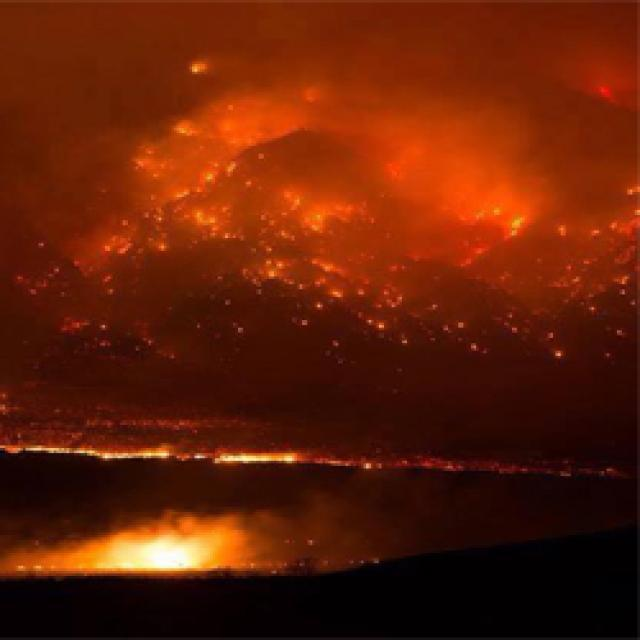Fire: (0, 494, 353, 604), (0, 410, 323, 480), (323, 435, 640, 495), (136, 88, 252, 196), (502, 200, 626, 286), (232, 253, 397, 313), (265, 182, 363, 266), (106, 308, 202, 388), (447, 178, 540, 244), (286, 268, 368, 342), (430, 308, 546, 357), (568, 205, 640, 275), (137, 200, 225, 256), (88, 215, 162, 270), (40, 280, 101, 346), (152, 46, 225, 95), (352, 313, 428, 359), (599, 148, 640, 229), (291, 72, 342, 136), (0, 251, 53, 306), (522, 318, 622, 343)
Smoke: (0, 0, 640, 272)
